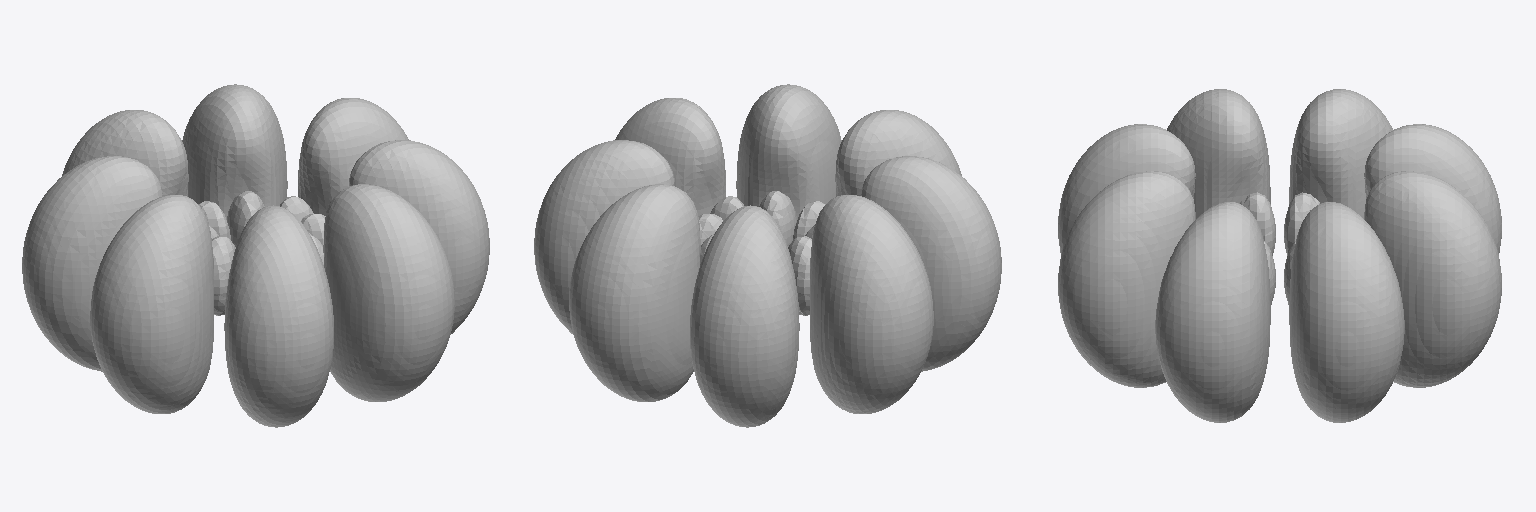
Rendered from orb_n=6_ l=4 _m=-4.obj.
3 views of the same model, side by side, from view 1: azimuth 30°, elevation 25°; view 2: azimuth 150°, elevation 25°; view 3: azimuth 270°, elevation 25° (orthographic).
Visible parts, largest first — view 1: orb_n=6__l=4__m=-4; view 2: orb_n=6__l=4__m=-4; view 3: orb_n=6__l=4__m=-4.
Boxes of the visible parts, x1,y1,x2,y2 form: orb_n=6__l=4__m=-4: [22, 84, 489, 427]; orb_n=6__l=4__m=-4: [534, 84, 1001, 427]; orb_n=6__l=4__m=-4: [1058, 89, 1501, 422].
Bounding box in the file's own units: 140 × 73.32 × 140.